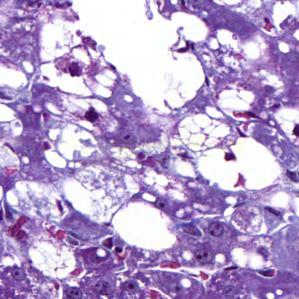ballooning: (35, 23, 117, 100), (42, 116, 103, 173), (178, 112, 234, 154), (29, 237, 79, 280)
